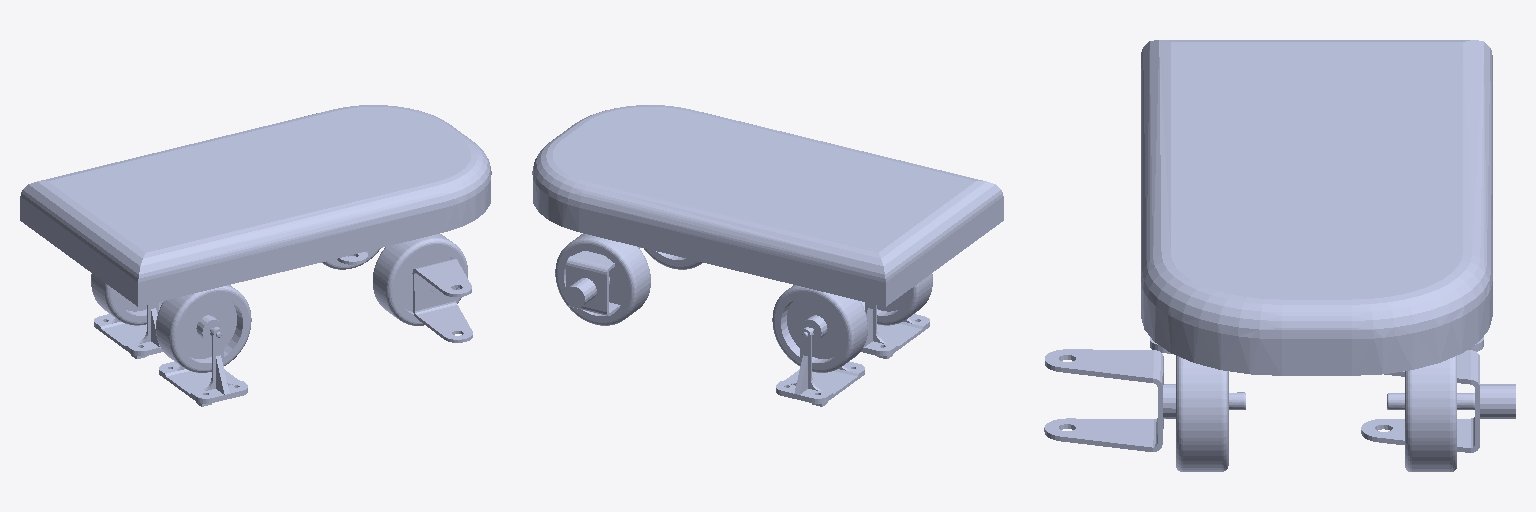
URDF robot description (skateboard):
<?xml version="1.0" ?>
<!-- =================================================================================== -->
<!-- |    This document was autogenerated by xacro from my_robot_integration.urdf.xacro | -->
<!-- |    EDITING THIS FILE BY HAND IS NOT RECOMMENDED                                 | -->
<!-- =================================================================================== -->
<!-- Name your robot here -->
<robot name="skateboard">
  <link name="base_link">
    <inertial>
      <origin rpy="0 0 0" xyz="-0.00458216531210875 8.24703628388157E-07 0.293836175998977"/>
      <mass value="46.6638789557158"/>
      <inertia ixx="0.974368837581962" ixy="8.66048070135966E-06" ixz="-0.00163912437239369" iyy="3.40173203153984" iyz="1.79342534681446E-06" izz="4.29781608665177"/>
    </inertial>
    <visual>
      <origin rpy="0 0 0" xyz="0 0 0"/>
      <geometry>
        <mesh filename="package://skateboard/meshes/base_link.STL"/>
      </geometry>
      <material name="">
        <color rgba="0.792156862745098 0.819607843137255 0.933333333333333 1"/>
      </material>
    </visual>
    <collision>
      <origin rpy="0 0 0" xyz="0 0 0"/>
      <geometry>
        <mesh filename="package://skateboard/meshes/base_link.STL"/>
      </geometry>
    </collision>
  </link>
  <link name="front_left_castor">
    <inertial>
      <origin rpy="0 0 0" xyz="0.0134807351662773 0.1061390440721 -0.0635"/>
      <mass value="0.375748041819476"/>
      <inertia ixx="0.00186061964746791" ixy="-0.000120223941784029" ixz="-1.9874701838698E-22" iyy="0.00087989031280542" iyz="2.67789108792648E-19" izz="0.00141382013714359"/>
    </inertial>
    <visual>
      <origin rpy="0 0 0" xyz="0 0 0"/>
      <geometry>
        <mesh filename="package://skateboard/meshes/front_left_castor.STL"/>
      </geometry>
      <material name="">
        <color rgba="0.792156862745098 0.819607843137255 0.933333333333333 1"/>
      </material>
    </visual>
    <collision>
      <origin rpy="0 0 0" xyz="0 0 0"/>
      <geometry>
        <mesh filename="package://skateboard/meshes/front_left_castor.STL"/>
      </geometry>
    </collision>
  </link>
  <joint name="front_left_castor_joint" type="revolute">
    <origin rpy="1.5708 0 3.1416" xyz="0.28412 0.2286 0.10465"/>
    <parent link="base_link"/>
    <child link="front_left_castor"/>
    <axis xyz="0 0 1"/>
    <limit effort="0" lower="0" upper="0" velocity="0"/>
  </joint>
  <link name="front_left_shaft">
    <inertial>
      <origin rpy="0 0 0" xyz="0 0 -0.0635"/>
      <mass value="0.0858595098594949"/>
      <inertia ixx="0.0001009908613904" ixy="2.99244959851748E-38" ixz="-1.26927539495442E-38" iyy="0.0001009908613904" iyz="3.2318755504395E-21" izz="9.64668125467686E-06"/>
    </inertial>
    <visual>
      <origin rpy="0 0 0" xyz="0 0 0"/>
      <geometry>
        <mesh filename="package://skateboard/meshes/front_left_shaft.STL"/>
      </geometry>
      <material name="">
        <color rgba="0.792156862745098 0.819607843137255 0.933333333333333 1"/>
      </material>
    </visual>
    <collision>
      <origin rpy="0 0 0" xyz="0 0 0"/>
      <geometry>
        <mesh filename="package://skateboard/meshes/front_left_shaft.STL"/>
      </geometry>
    </collision>
  </link>
  <joint name="front_left_shaft_joint" type="continuous">
    <origin rpy="0 0 0" xyz="0 0 0"/>
    <parent link="front_left_castor"/>
    <child link="front_left_shaft"/>
    <axis xyz="0 0 1"/>
  </joint>
  <link name="front_left_wheel">
    <inertial>
      <origin rpy="0 0 0" xyz="1.01629056954433E-05 0.000757681850388048 -0.0634999999999999"/>
      <mass value="1.55942631528513"/>
      <inertia ixx="0.00546334240124887" ixy="4.47252015876343E-10" ixz="-1.97875367151852E-19" iyy="0.00546337573952603" iyz="-6.88313983385968E-20" izz="0.00981623598058744"/>
    </inertial>
    <visual>
      <origin rpy="0 0 0" xyz="0 0 0"/>
      <geometry>
        <mesh filename="package://skateboard/meshes/front_left_wheel.STL"/>
      </geometry>
      <material name="">
        <color rgba="0.792156862745098 0.819607843137255 0.933333333333333 1"/>
      </material>
    </visual>
    <collision>
      <origin rpy="0 0 0" xyz="0 0 0"/>
      <geometry>
        <mesh filename="package://skateboard/meshes/front_left_wheel.STL"/>
      </geometry>
    </collision>
  </link>
  <joint name="front_left_wheel_joint" type="fixed">
    <origin rpy="0 0 0" xyz="0 0 0"/>
    <parent link="front_left_shaft"/>
    <child link="front_left_wheel"/>
    <axis xyz="0 0 0"/>
  </joint>
  <link name="front_right_castor">
    <inertial>
      <origin rpy="0 0 0" xyz="0.0134807351662771 0.1061390440721 0.0634999999999999"/>
      <mass value="0.375748041819476"/>
      <inertia ixx="0.00186061964746791" ixy="-0.000120223941784028" ixz="1.0045810754436E-18" iyy="0.000879890312805418" iyz="-5.34477789717464E-19" izz="0.00141382013714358"/>
    </inertial>
    <visual>
      <origin rpy="0 0 0" xyz="0 0 0"/>
      <geometry>
        <mesh filename="package://skateboard/meshes/front_right_castor.STL"/>
      </geometry>
      <material name="">
        <color rgba="0.792156862745098 0.819607843137255 0.933333333333333 1"/>
      </material>
    </visual>
    <collision>
      <origin rpy="0 0 0" xyz="0 0 0"/>
      <geometry>
        <mesh filename="package://skateboard/meshes/front_right_castor.STL"/>
      </geometry>
    </collision>
  </link>
  <joint name="front_right_castor_joint" type="revolute">
    <origin rpy="1.5708 0 3.123" xyz="0.28293 -0.22892 0.10465"/>
    <parent link="base_link"/>
    <child link="front_right_castor"/>
    <axis xyz="0 0 -1"/>
    <limit effort="0" lower="0" upper="0" velocity="0"/>
  </joint>
  <link name="front_right_shaft">
    <inertial>
      <origin rpy="0 0 0" xyz="-2.22044604925031E-16 0 0.0635000000000001"/>
      <mass value="0.0858595098594949"/>
      <inertia ixx="0.0001009908613904" ixy="2.7662421850965E-23" ixz="-2.40874994375442E-21" iyy="0.0001009908613904" iyz="3.94898122378413E-21" izz="9.64668125467686E-06"/>
    </inertial>
    <visual>
      <origin rpy="0 0 0" xyz="0 0 0"/>
      <geometry>
        <mesh filename="package://skateboard/meshes/front_right_shaft.STL"/>
      </geometry>
      <material name="">
        <color rgba="0.792156862745098 0.819607843137255 0.933333333333333 1"/>
      </material>
    </visual>
    <collision>
      <origin rpy="0 0 0" xyz="0 0 0"/>
      <geometry>
        <mesh filename="package://skateboard/meshes/front_right_shaft.STL"/>
      </geometry>
    </collision>
  </link>
  <joint name="front_right_shaft_joint" type="continuous">
    <origin rpy="0 0 0" xyz="0 0 0"/>
    <parent link="front_right_castor"/>
    <child link="front_right_shaft"/>
    <axis xyz="0 0 -1"/>
  </joint>
  <link name="front_right_wheel">
    <inertial>
      <origin rpy="0 0 0" xyz="1.01629056949992E-05 0.000757681850388048 0.0635"/>
      <mass value="1.55942631528513"/>
      <inertia ixx="0.00546334240124888" ixy="4.47252014931879E-10" ixz="-2.03287907341032E-20" iyy="0.00546337573952603" iyz="-4.6342149199017E-20" izz="0.00981623598058744"/>
    </inertial>
    <visual>
      <origin rpy="0 0 0" xyz="0 0 0"/>
      <geometry>
        <mesh filename="package://skateboard/meshes/front_right_wheel.STL"/>
      </geometry>
      <material name="">
        <color rgba="0.792156862745098 0.819607843137255 0.933333333333333 1"/>
      </material>
    </visual>
    <collision>
      <origin rpy="0 0 0" xyz="0 0 0"/>
      <geometry>
        <mesh filename="package://skateboard/meshes/front_right_wheel.STL"/>
      </geometry>
    </collision>
  </link>
  <joint name="front_right_wheel_joint" type="fixed">
    <origin rpy="0 0 0" xyz="0 0 0"/>
    <parent link="front_right_shaft"/>
    <child link="front_right_wheel"/>
    <axis xyz="0 0 0"/>
  </joint>
  <link name="rear_left_castor">
    <inertial>
      <origin rpy="0 0 0" xyz="3.33066907387547E-16 0.121707358571448 -0.06858"/>
      <mass value="0.366948048129126"/>
      <inertia ixx="0.000748556266523244" ixy="-1.01060150672454E-19" ixz="1.31376525772936E-19" iyy="0.000740864473475818" iyz="8.44762671544618E-20" izz="0.000632863553143694"/>
    </inertial>
    <visual>
      <origin rpy="0 0 0" xyz="0 0 0"/>
      <geometry>
        <mesh filename="package://skateboard/meshes/rear_left_castor.STL"/>
      </geometry>
      <material name="">
        <color rgba="0.792156862745098 0.819607843137255 0.933333333333333 1"/>
      </material>
    </visual>
    <collision>
      <origin rpy="0 0 0" xyz="0 0 0"/>
      <geometry>
        <mesh filename="package://skateboard/meshes/rear_left_castor.STL"/>
      </geometry>
    </collision>
  </link>
  <joint name="rear_left_castor_joint" type="fixed">
    <origin rpy="1.5708 0 -3.1416" xyz="-0.24166 0.20828 0.10478"/>
    <parent link="base_link"/>
    <child link="rear_left_castor"/>
    <axis xyz="0 0 0"/>
  </joint>
  <link name="rear_left_shaft">
    <inertial>
      <origin rpy="0 0 0" xyz="-1.11022302462516E-16 1.11022302462516E-16 -0.0685799999999998"/>
      <mass value="0.0679514721041126"/>
      <inertia ixx="5.51726293118822E-05" ixy="2.58732738125917E-22" ixz="6.57806775316306E-21" iyy="5.51726293118822E-05" iyz="9.63988248762429E-21" izz="7.75429241942671E-06"/>
    </inertial>
    <visual>
      <origin rpy="0 0 0" xyz="0 0 0"/>
      <geometry>
        <mesh filename="package://skateboard/meshes/rear_left_shaft.STL"/>
      </geometry>
      <material name="">
        <color rgba="0.792156862745098 0.819607843137255 0.933333333333333 1"/>
      </material>
    </visual>
    <collision>
      <origin rpy="0 0 0" xyz="0 0 0"/>
      <geometry>
        <mesh filename="package://skateboard/meshes/rear_left_shaft.STL"/>
      </geometry>
    </collision>
  </link>
  <joint name="rear_left_shaft_joint" type="continuous">
    <origin rpy="0 0 0" xyz="0 0 0"/>
    <parent link="rear_left_castor"/>
    <child link="rear_left_shaft"/>
    <axis xyz="0 0 -1"/>
  </joint>
  <link name="rear_left_wheel">
    <inertial>
      <origin rpy="0 0 0" xyz="9.36913719650212E-05 0.000751935501142831 -0.06858"/>
      <mass value="1.55942631528513"/>
      <inertia ixx="0.00546334290510486" ixy="4.09192546748377E-09" ixz="-2.12443650692712E-19" iyy="0.00546337523567005" iyz="-1.67504107850689E-19" izz="0.00981623598058744"/>
    </inertial>
    <visual>
      <origin rpy="0 0 0" xyz="0 0 0"/>
      <geometry>
        <mesh filename="package://skateboard/meshes/rear_left_wheel.STL"/>
      </geometry>
      <material name="">
        <color rgba="0.792156862745098 0.819607843137255 0.933333333333333 1"/>
      </material>
    </visual>
    <collision>
      <origin rpy="0 0 0" xyz="0 0 0"/>
      <geometry>
        <mesh filename="package://skateboard/meshes/rear_left_wheel.STL"/>
      </geometry>
    </collision>
  </link>
  <joint name="rear_left_wheel_joint" type="fixed">
    <origin rpy="0 0 0" xyz="0 0 0"/>
    <parent link="rear_left_shaft"/>
    <child link="rear_left_wheel"/>
    <axis xyz="0 0 0"/>
  </joint>
  <link name="rear_right_castor">
    <inertial>
      <origin rpy="0 0 0" xyz="1.11022302462516E-16 0.121707358571448 0.0685799999999999"/>
      <mass value="0.366948048129126"/>
      <inertia ixx="0.000748556266523244" ixy="-2.8369927385419E-20" ixz="5.613315174775E-20" iyy="0.000740864473475818" iyz="5.28772548313157E-20" izz="0.000632863553143694"/>
    </inertial>
    <visual>
      <origin rpy="0 0 0" xyz="0 0 0"/>
      <geometry>
        <mesh filename="package://skateboard/meshes/rear_right_castor.STL"/>
      </geometry>
      <material name="">
        <color rgba="0.792156862745098 0.819607843137255 0.933333333333333 1"/>
      </material>
    </visual>
    <collision>
      <origin rpy="0 0 0" xyz="0 0 0"/>
      <geometry>
        <mesh filename="package://skateboard/meshes/rear_right_castor.STL"/>
      </geometry>
    </collision>
  </link>
  <joint name="rear_right_castor_joint" type="fixed">
    <origin rpy="1.5708 0 3.1416" xyz="-0.24166 -0.20828 0.10478"/>
    <parent link="base_link"/>
    <child link="rear_right_castor"/>
    <axis xyz="0 0 0"/>
  </joint>
  <link name="rear_right_shaft">
    <inertial>
      <origin rpy="0 0 0" xyz="1.11022302462516E-16 -1.11022302462516E-16 0.06858"/>
      <mass value="0.0679514721041126"/>
      <inertia ixx="5.51726293118822E-05" ixy="2.79660407623497E-22" ixz="-2.38144420119797E-20" iyy="5.51726293118822E-05" iyz="-9.25284210881679E-22" izz="7.7542924194267E-06"/>
    </inertial>
    <visual>
      <origin rpy="0 0 0" xyz="0 0 0"/>
      <geometry>
        <mesh filename="package://skateboard/meshes/rear_right_shaft.STL"/>
      </geometry>
      <material name="">
        <color rgba="0.792156862745098 0.819607843137255 0.933333333333333 1"/>
      </material>
    </visual>
    <collision>
      <origin rpy="0 0 0" xyz="0 0 0"/>
      <geometry>
        <mesh filename="package://skateboard/meshes/rear_right_shaft.STL"/>
      </geometry>
    </collision>
  </link>
  <joint name="rear_right_shaft_joint" type="continuous">
    <origin rpy="0 0 0" xyz="0 0 0"/>
    <parent link="rear_right_castor"/>
    <child link="rear_right_shaft"/>
    <axis xyz="0 0 -1"/>
  </joint>
  <link name="rear_right_wheel">
    <inertial>
      <origin rpy="0 0 0" xyz="9.36913719651322E-05 0.000751935501142831 0.06858"/>
      <mass value="1.55942631528513"/>
      <inertia ixx="0.00546334290510487" ixy="4.09192546791387E-09" ixz="1.27619464698766E-18" iyy="0.00546337523567006" iyz="-5.60649921346398E-20" izz="0.00981623598058745"/>
    </inertial>
    <visual>
      <origin rpy="0 0 0" xyz="0 0 0"/>
      <geometry>
        <mesh filename="package://skateboard/meshes/rear_right_wheel.STL"/>
      </geometry>
      <material name="">
        <color rgba="0.792156862745098 0.819607843137255 0.933333333333333 1"/>
      </material>
    </visual>
    <collision>
      <origin rpy="0 0 0" xyz="0 0 0"/>
      <geometry>
        <mesh filename="package://skateboard/meshes/rear_right_wheel.STL"/>
      </geometry>
    </collision>
  </link>
  <joint name="rear_right_wheel_joint" type="fixed">
    <origin rpy="0 0 0" xyz="0 0 0"/>
    <parent link="rear_right_shaft"/>
    <child link="rear_right_wheel"/>
    <axis xyz="0 0 0"/>
  </joint>
  <link name="dummy_link"/>
  <joint name="dummy_joint" type="fixed">
    <parent link="dummy_link"/>
    <child link="base_link"/>
    <origin rpy="0 0 0" xyz="0 0 0"/>
    <axis xyz="0 0 0"/>
  </joint>
  <link name="base_laser">
    <inertial>
      <origin rpy="0 0 0" xyz="-0.00029774 0.0066667 0.00013047"/>
      <mass value="0.15717"/>
      <inertia ixx="6.7885E-05" ixy="-1.3987E-07" ixz="-8.1554E-07" iyy="0.00013173" iyz="-9.0932E-08" izz="7.1972E-05"/>
    </inertial>
    <visual>
      <origin rpy="0 0 0" xyz="0 0 0"/>
      <geometry>
        <mesh filename="package://ydlidar_ros/meshes/ydlidar.dae"/>
      </geometry>
      <material name="">
        <color rgba="0.64706 0.61961 0.58824 1"/>
      </material>
    </visual>
    <collision>
      <origin rpy="0 0 0" xyz="0 0 0"/>
      <geometry>
        <mesh filename="package://ydlidar_ros/meshes/ydlidar.dae"/>
      </geometry>
    </collision>
  </link>
  <link name="laser_frame">
    <inertial>
      <origin rpy="0 0 0" xyz="-0.00036659 0.00064155 -0.00027052"/>
      <mass value="0.25482"/>
      <inertia ixx="8.9194E-05" ixy="1.8116E-07" ixz="3.6435E-08" iyy="0.00018279" iyz="2.423E-07" izz="0.00011103"/>
    </inertial>
    <visual>
      <origin
        xyz="0 0 0"
        rpy="0 0 0" />
      <geometry>
        <mesh
          filename="package://ydlidar_ros/meshes/ydlidar.dae" />
      </geometry>
      <material
        name="">
        <color
          rgba="0.64706 0.61961 0.58824 1" />
      </material>
    </visual>
    <collision>
      <origin
        xyz="0 0 0"
        rpy="0 0 0" />
      <geometry>
        <mesh
          filename="package://ydlidar_ros/meshes/ydlidar.dae" />
      </geometry>
    </collision>
  </link>
  <joint name="laser_joint" type="fixed">
    <origin rpy="0 0 0" xyz="0 0 0.03172"/>
    <parent link="base_laser"/>
    <child link="laser_frame"/>
    <axis xyz="0 0 0"/>
  </joint>
  <!-- Add your gazebo sensors here -->
  <gazebo reference="base_laser">
    <!-- <gravity>true</gravity> -->
    <!-- Gazebo has fixed set of Sensors types. Check them out here <> -->
    <sensor name="laser" type="ray">
      <!-- Add in your sensor characteristics -->
      <pose> 0 0 0 0 0 0 </pose>
      <visualise>true</visualise>
      <update_rate>40</update_rate>
      <!-- <always_on>true</always_on> -->
      <ray>
        <scan>
          <horizontal>
            <samples>720</samples>
            <resolution>1</resolution>
            <min_angle>-1.570796</min_angle>
            <max_angle>1.570796</max_angle>
          </horizontal>
        </scan>
        <range>
          <min>0.10</min>
          <max>30.0</max>
          <resolution>0.01</resolution>
        </range>
        <noise>
          <type>gaussian</type>
          <mean>0.0</mean>
          <stddev>0.01</stddev>
        </noise>
      </ray>
      <plugin filename="libgazebo_ros_laser.so" name="gazebo_ros_head_hokuyo_controller">
        <!-- Use topic name as /my_robot/scan -->
        <topicName>/skateboard/scan</topicName>
        <frameName>laser_frame</frameName>
      </plugin>
    </sensor>
  </gazebo>
  <!--  Gazebo plugin for control here is already added for you -->
  <gazebo>
    <plugin filename="libgazebo_ros_control.so" name="gazebo_ros_control">
      <robotNamespace>/skateboard</robotNamespace>
      <robotSimType>gazebo_ros_control/DefaultRobotHWSim</robotSimType>
      <legacyModeNS>true</legacyModeNS>
    </plugin>
  </gazebo>
  <!-- Create a joint between your robot and sensor -->
  <joint name="lidar_joint" type="fixed">
    <origin rpy="0 0 0" xyz="0 0 0"/>
    <parent link="base_link"/>
    <child link="base_laser"/>
    <axis xyz="0 0 0"/>
  </joint>


  <transmission name="rear_motor_left">
  <type>transmission_interface/SimpleTransmission</type>
  <joint name="rear_left_shaft_joint">
    <hardwareInterface>hardware_interface/VelocityJointInterface</hardwareInterface>
  </joint>
  <actuator name="rear_motor_left">
    <mechanicalReduction>50</mechanicalReduction>
    <hardwareInterface>hardware_interface/VelocityJointInterface</hardwareInterface>
  </actuator>
  </transmission>

  <transmission name="rear_motor_right">
  <type>transmission_interface/SimpleTransmission</type>
  <joint name="rear_right_shaft_joint">
    <hardwareInterface>hardware_interface/VelocityJointInterface</hardwareInterface>
  </joint>
  <actuator name="rear_motor_right">
    <mechanicalReduction>50</mechanicalReduction>
    <hardwareInterface>hardware_interface/VelocityJointInterface</hardwareInterface>
  </actuator>
  </transmission>

  <transmission name="left_castor_motor">
  <type>transmission_interface/SimpleTransmission</type>
  <joint name="front_left_castor_joint">
    <hardwareInterface>hardware_interface/EffortJointInterface</hardwareInterface>
  </joint>
  <actuator name="left_castor_motor">
    <mechanicalReduction>50</mechanicalReduction>
    <hardwareInterface>hardware_interface/EffortJointInterface</hardwareInterface>
  </actuator>
  </transmission>

  <transmission name="right_castor_motor">
  <type>transmission_interface/SimpleTransmission</type>
  <joint name="front_right_castor_joint">
    <hardwareInterface>hardware_interface/EffortJointInterface</hardwareInterface>
  </joint>
  <actuator name="right_castor_motor">
    <mechanicalReduction>50</mechanicalReduction>
    <hardwareInterface>hardware_interface/EffortJointInterface</hardwareInterface>
  </actuator>
  </transmission>

</robot>

--- Facts derived from the render (not from the file) ---
Views: 3 orthographic renders of the robot side by side, from view 1: azimuth 30°, elevation 25°; view 2: azimuth 150°, elevation 25°; view 3: azimuth 270°, elevation 25°.
Model skateboard with 16 links and 15 joints (2 revolute, 4 continuous, 9 fixed), rooted at dummy_link, posed all joints at 0.
Links seen in each view (by area): view 1: base_link, rear_right_wheel, front_right_wheel, front_right_castor, rear_right_castor, rear_left_castor, rear_left_wheel; view 2: base_link, rear_left_wheel, front_left_wheel, rear_left_castor, front_left_castor, rear_right_castor, rear_right_wheel, front_right_wheel; view 3: base_link, front_right_castor, front_right_wheel, front_left_wheel, front_left_castor, front_left_shaft.
Boxes of the visible links, <box> form: base_link: <box>20,105,491,306</box>; rear_right_wheel: <box>156,285,251,372</box>; front_right_wheel: <box>373,234,467,325</box>; front_right_castor: <box>412,259,472,342</box>; rear_right_castor: <box>159,327,247,406</box>; rear_left_castor: <box>94,302,162,358</box>; rear_left_wheel: <box>91,274,163,325</box>; base_link: <box>532,105,1003,306</box>; rear_left_wheel: <box>772,285,867,372</box>; front_left_wheel: <box>555,233,650,325</box>; rear_left_castor: <box>776,327,864,406</box>; front_left_castor: <box>565,247,640,315</box>; rear_right_castor: <box>861,302,929,358</box>; rear_right_wheel: <box>860,274,932,325</box>; front_right_wheel: <box>644,248,702,269</box>; base_link: <box>1141,40,1492,375</box>; front_right_castor: <box>1044,349,1175,451</box>; front_right_wheel: <box>1176,356,1228,471</box>; front_left_wheel: <box>1405,356,1456,471</box>; front_left_castor: <box>1361,350,1515,452</box>; front_left_shaft: <box>1387,393,1474,409</box>.
Bounding box of the posed robot: 0.9652 × 0.6802 × 0.4305 m (x, y, z).
13 mesh visuals loaded from 14 distinct referenced files (13 binary STL); not drawn: 2 (reference not matched to a file when rendering).
